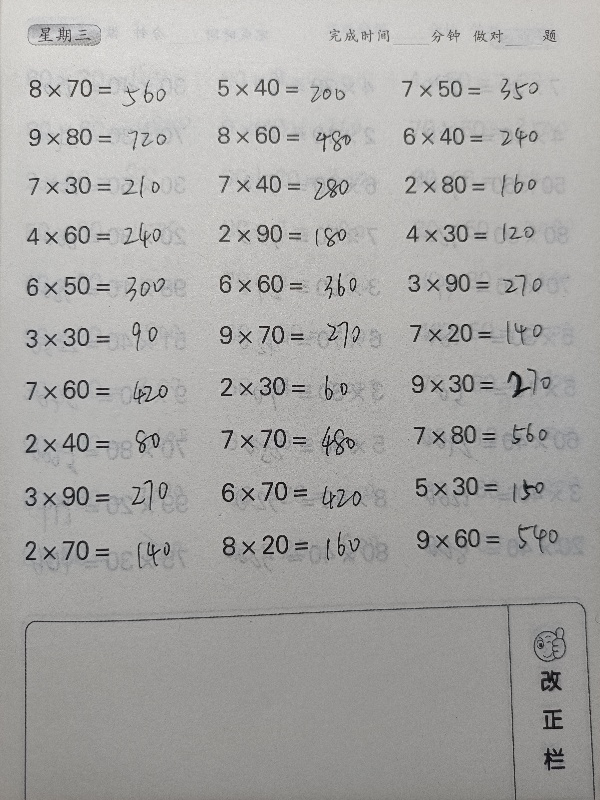equation: (213, 525, 393, 569), (216, 416, 375, 459), (209, 71, 389, 108), (407, 520, 587, 556), (17, 478, 197, 514), (212, 473, 392, 509), (406, 468, 586, 504), (18, 371, 198, 407), (17, 532, 197, 567), (16, 425, 196, 460), (406, 417, 586, 452), (212, 369, 392, 404), (17, 319, 197, 354), (17, 268, 197, 303), (18, 217, 198, 252), (402, 366, 582, 400), (211, 317, 391, 351), (402, 316, 582, 350), (211, 267, 391, 301), (400, 266, 580, 300), (211, 217, 391, 251), (19, 168, 199, 202), (397, 168, 577, 202), (21, 72, 201, 106), (398, 217, 578, 250), (210, 168, 390, 201), (21, 121, 201, 154), (395, 120, 575, 153), (209, 119, 389, 152), (394, 73, 574, 106)
